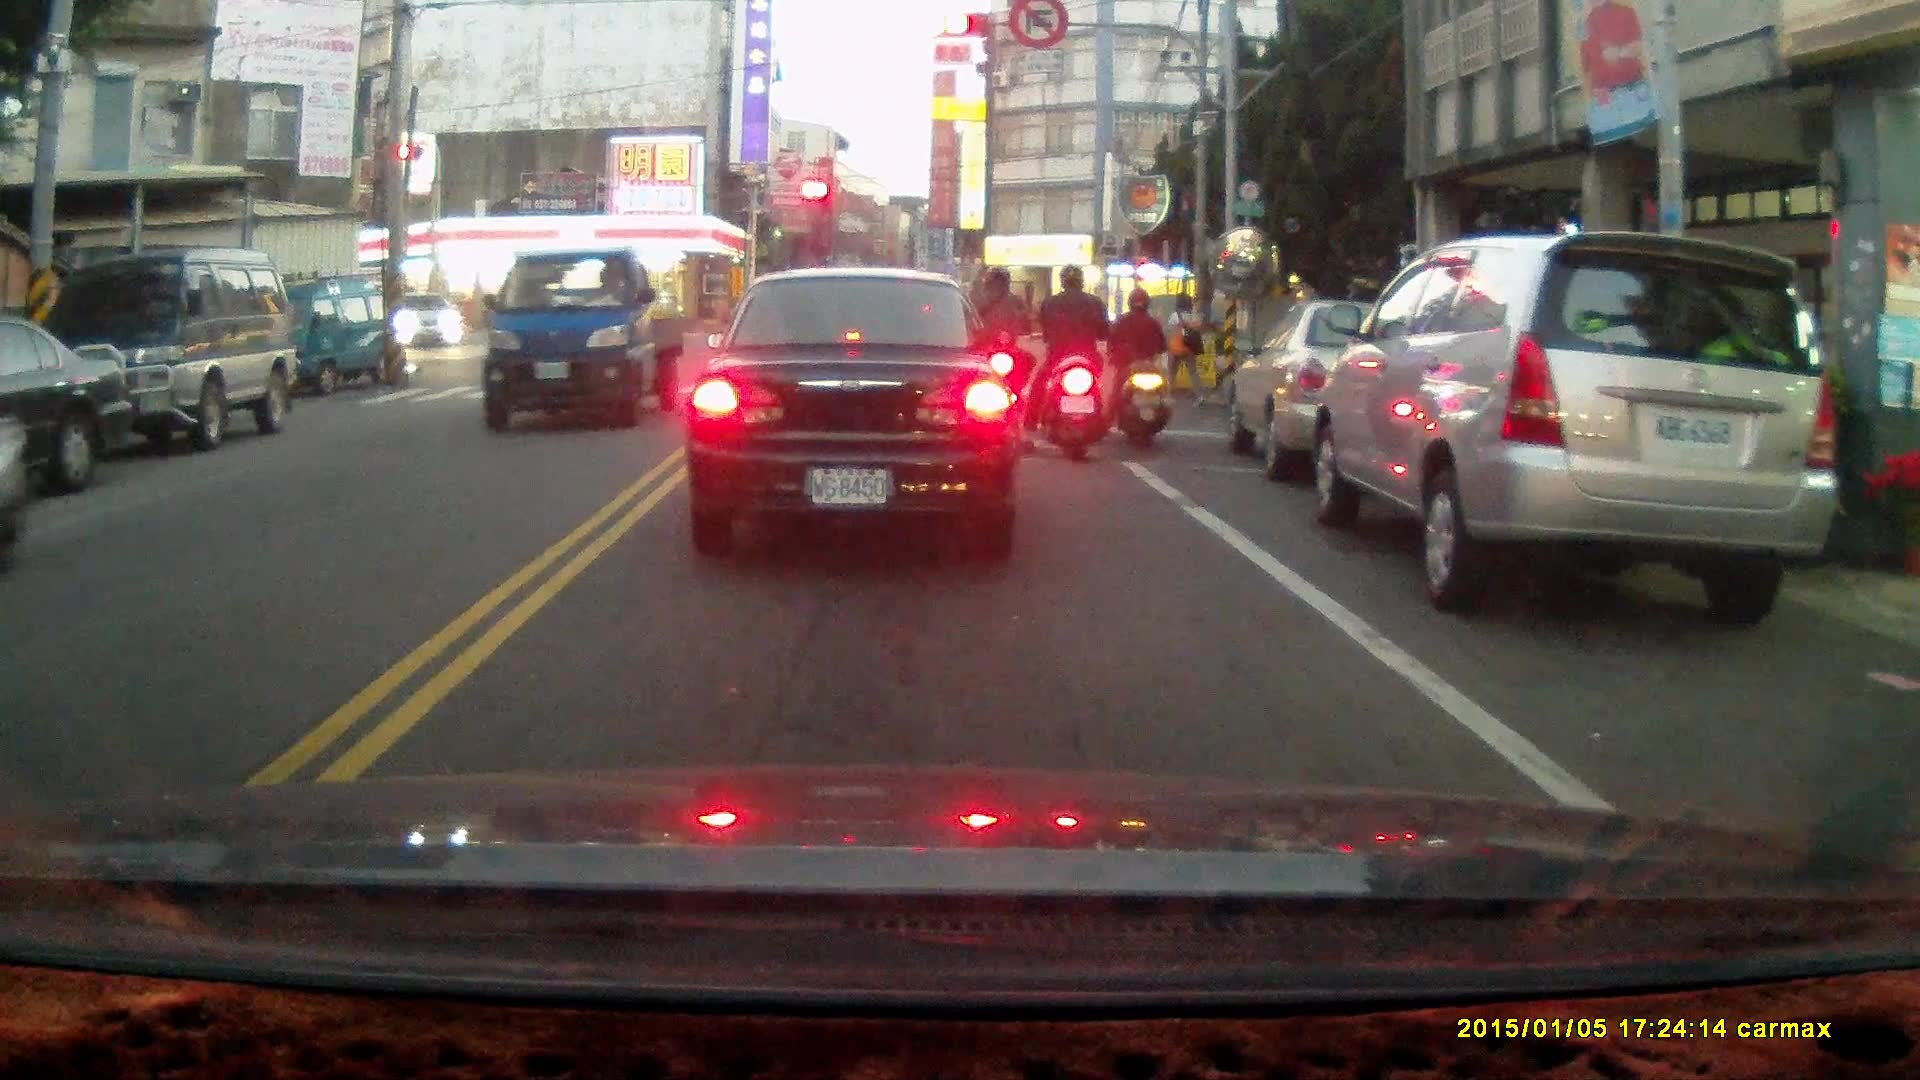pedestrian: (1159, 289, 1211, 410)
rider: (1025, 262, 1119, 460), (964, 264, 1034, 439), (1107, 284, 1173, 449)
vehicle: (1319, 226, 1853, 621), (685, 264, 1024, 553), (35, 241, 295, 454), (1230, 300, 1491, 488), (484, 248, 684, 424), (1, 315, 140, 497), (260, 271, 416, 402)
